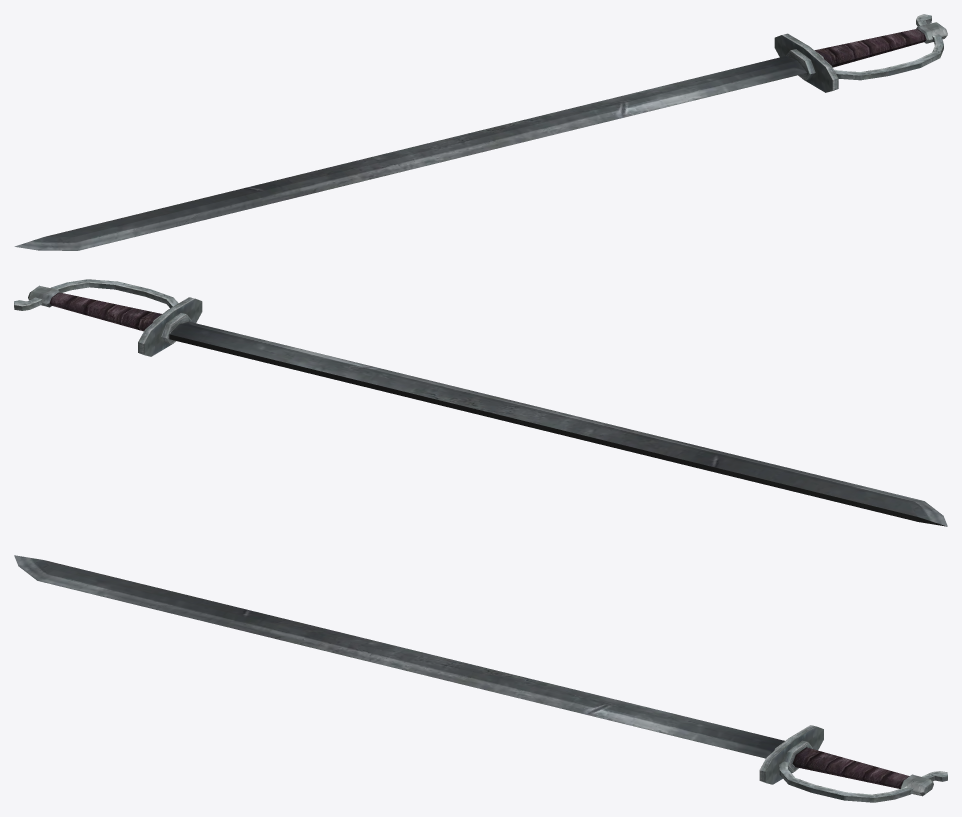
Rendered from KM_RYCHU_SWORD_02.glb.
3 renders of one model, top to bottom at view 1: azimuth 30°, elevation 25°; view 2: azimuth 150°, elevation 25°; view 3: azimuth 330°, elevation 25°, orthographic.
Parts seen in each view (by area): view 1: KM_RYCHU_SWORD_02; view 2: KM_RYCHU_SWORD_02; view 3: KM_RYCHU_SWORD_02.
Boxes of the visible parts, x1,y1,x2,y2 form: KM_RYCHU_SWORD_02: (14,14,947,250); KM_RYCHU_SWORD_02: (14,279,947,526); KM_RYCHU_SWORD_02: (14,555,947,802).
Size of the model in its own units: 1.09 by 0.0359 by 0.1231.
2 materials, 2 textured.
